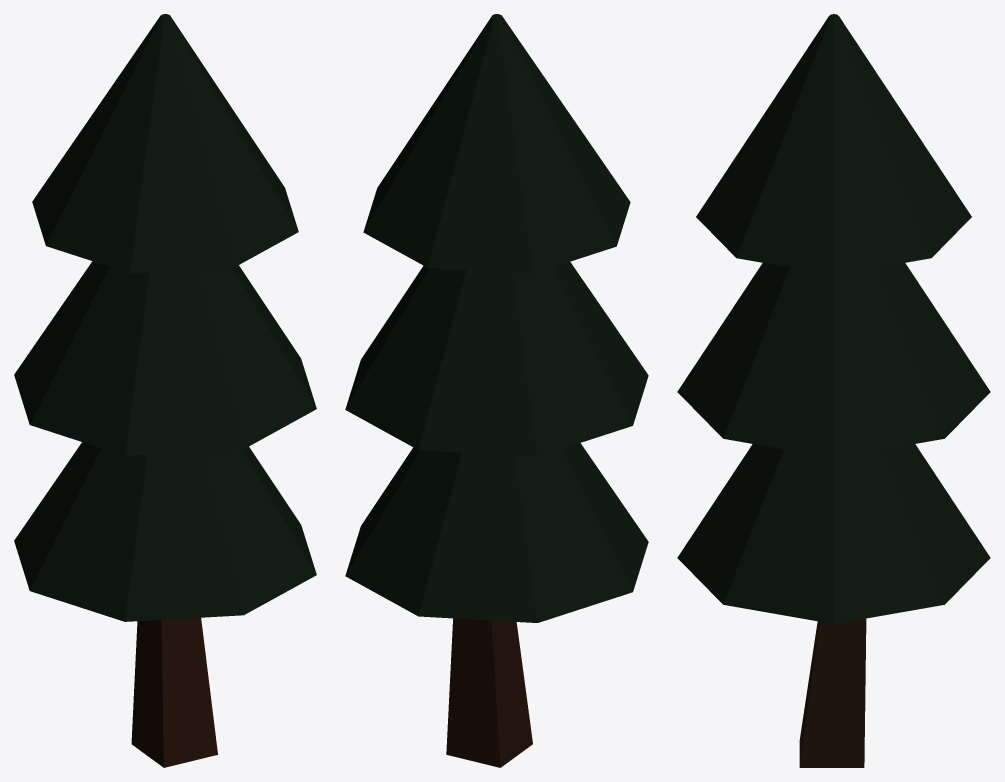
Rendered from Tree.fbx.
3 views of the same model, side by side, from view 1: azimuth 30°, elevation 25°; view 2: azimuth 150°, elevation 25°; view 3: azimuth 270°, elevation 25° (orthographic).
Parts seen in each view (by area): view 1: Tree; view 2: Tree; view 3: Tree.
Part boxes in pixels (<box>): Tree: <box>14,14,316,767</box>; Tree: <box>345,14,648,767</box>; Tree: <box>677,14,990,767</box>.
Size of the model in its own units: 596 by 1541 by 596.
